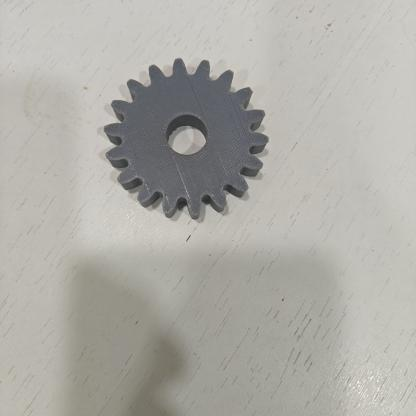gear: (90, 47, 289, 233)
